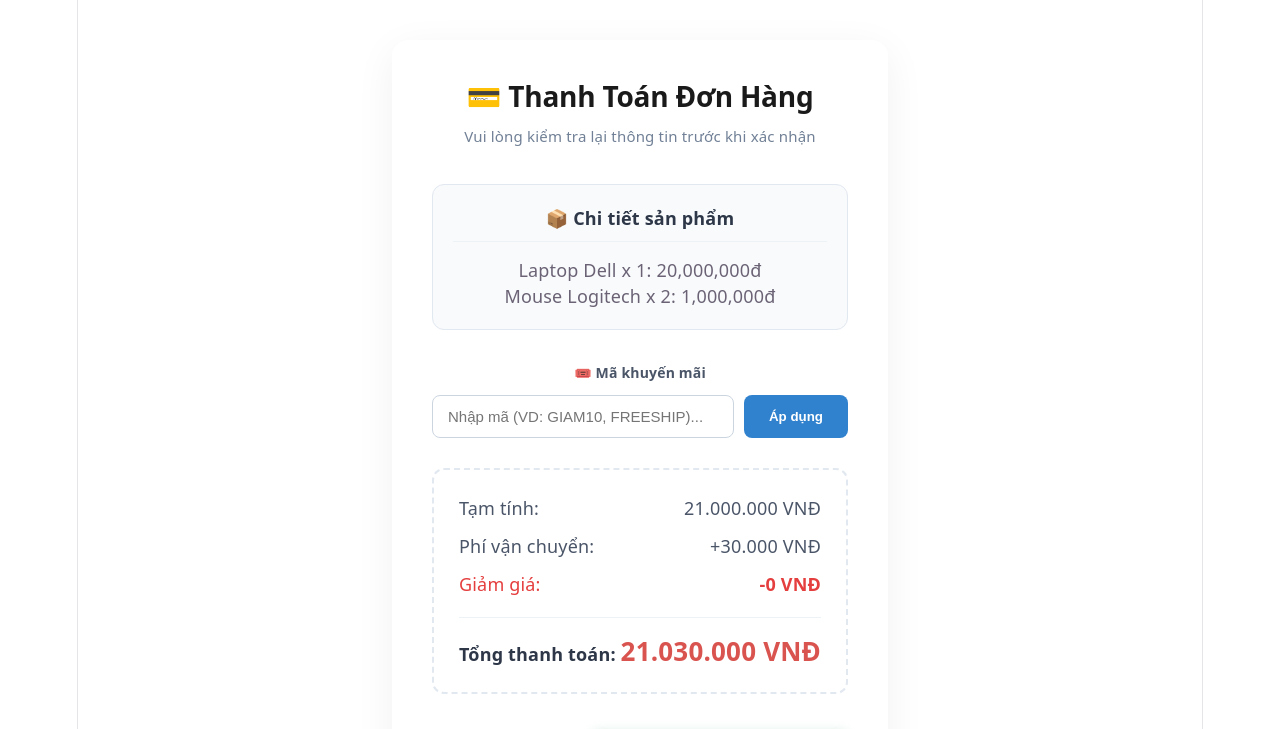
Checkout Integration Tests › TC4: Áp dụng mã giảm giá GIAM10 thành công
The image size is (1280, 729).
// Giả lập nhập mã và click
Type "GIAM10" into the field with placeholder "Nhập mã (VD: GIAM10, FREESHIP)...". click: (583, 416)
box: x1=432 y1=394 x2=734 y2=438
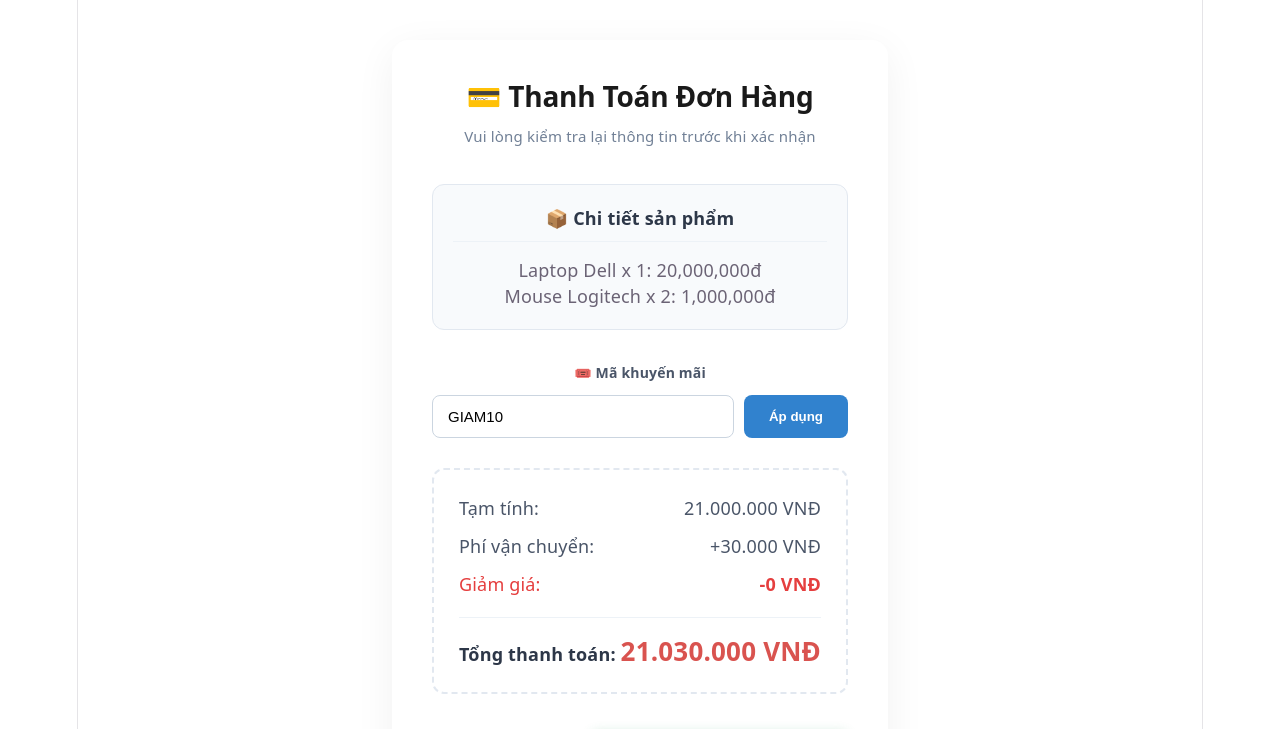
Click the button "Áp dụng". click: (796, 416)
box: x1=744 y1=394 x2=848 y2=438
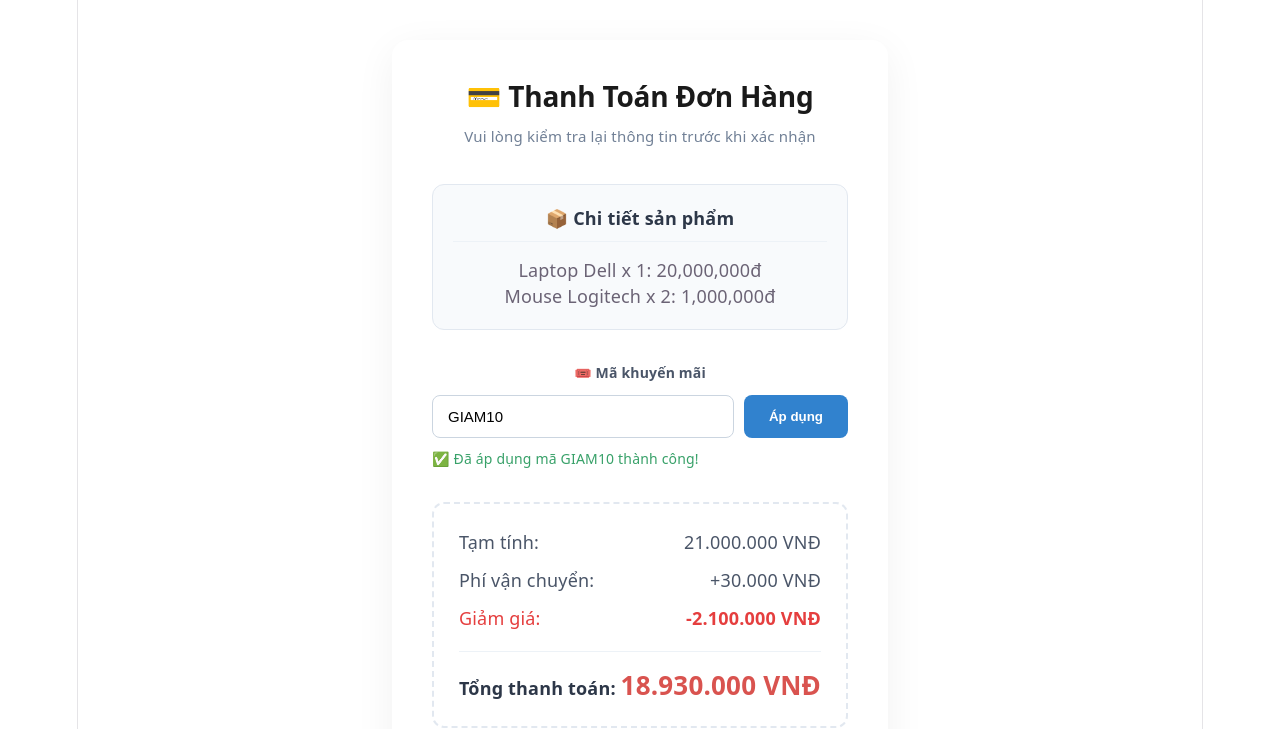
Expected: the text "✅ Đã áp dụng mã GIAM10 thành công!" is shown, x1=432 y1=448 x2=699 y2=468
Expected: the text with test id "discount-amount" no longer shows "-0 VNĐ", x1=686 y1=605 x2=821 y2=631
